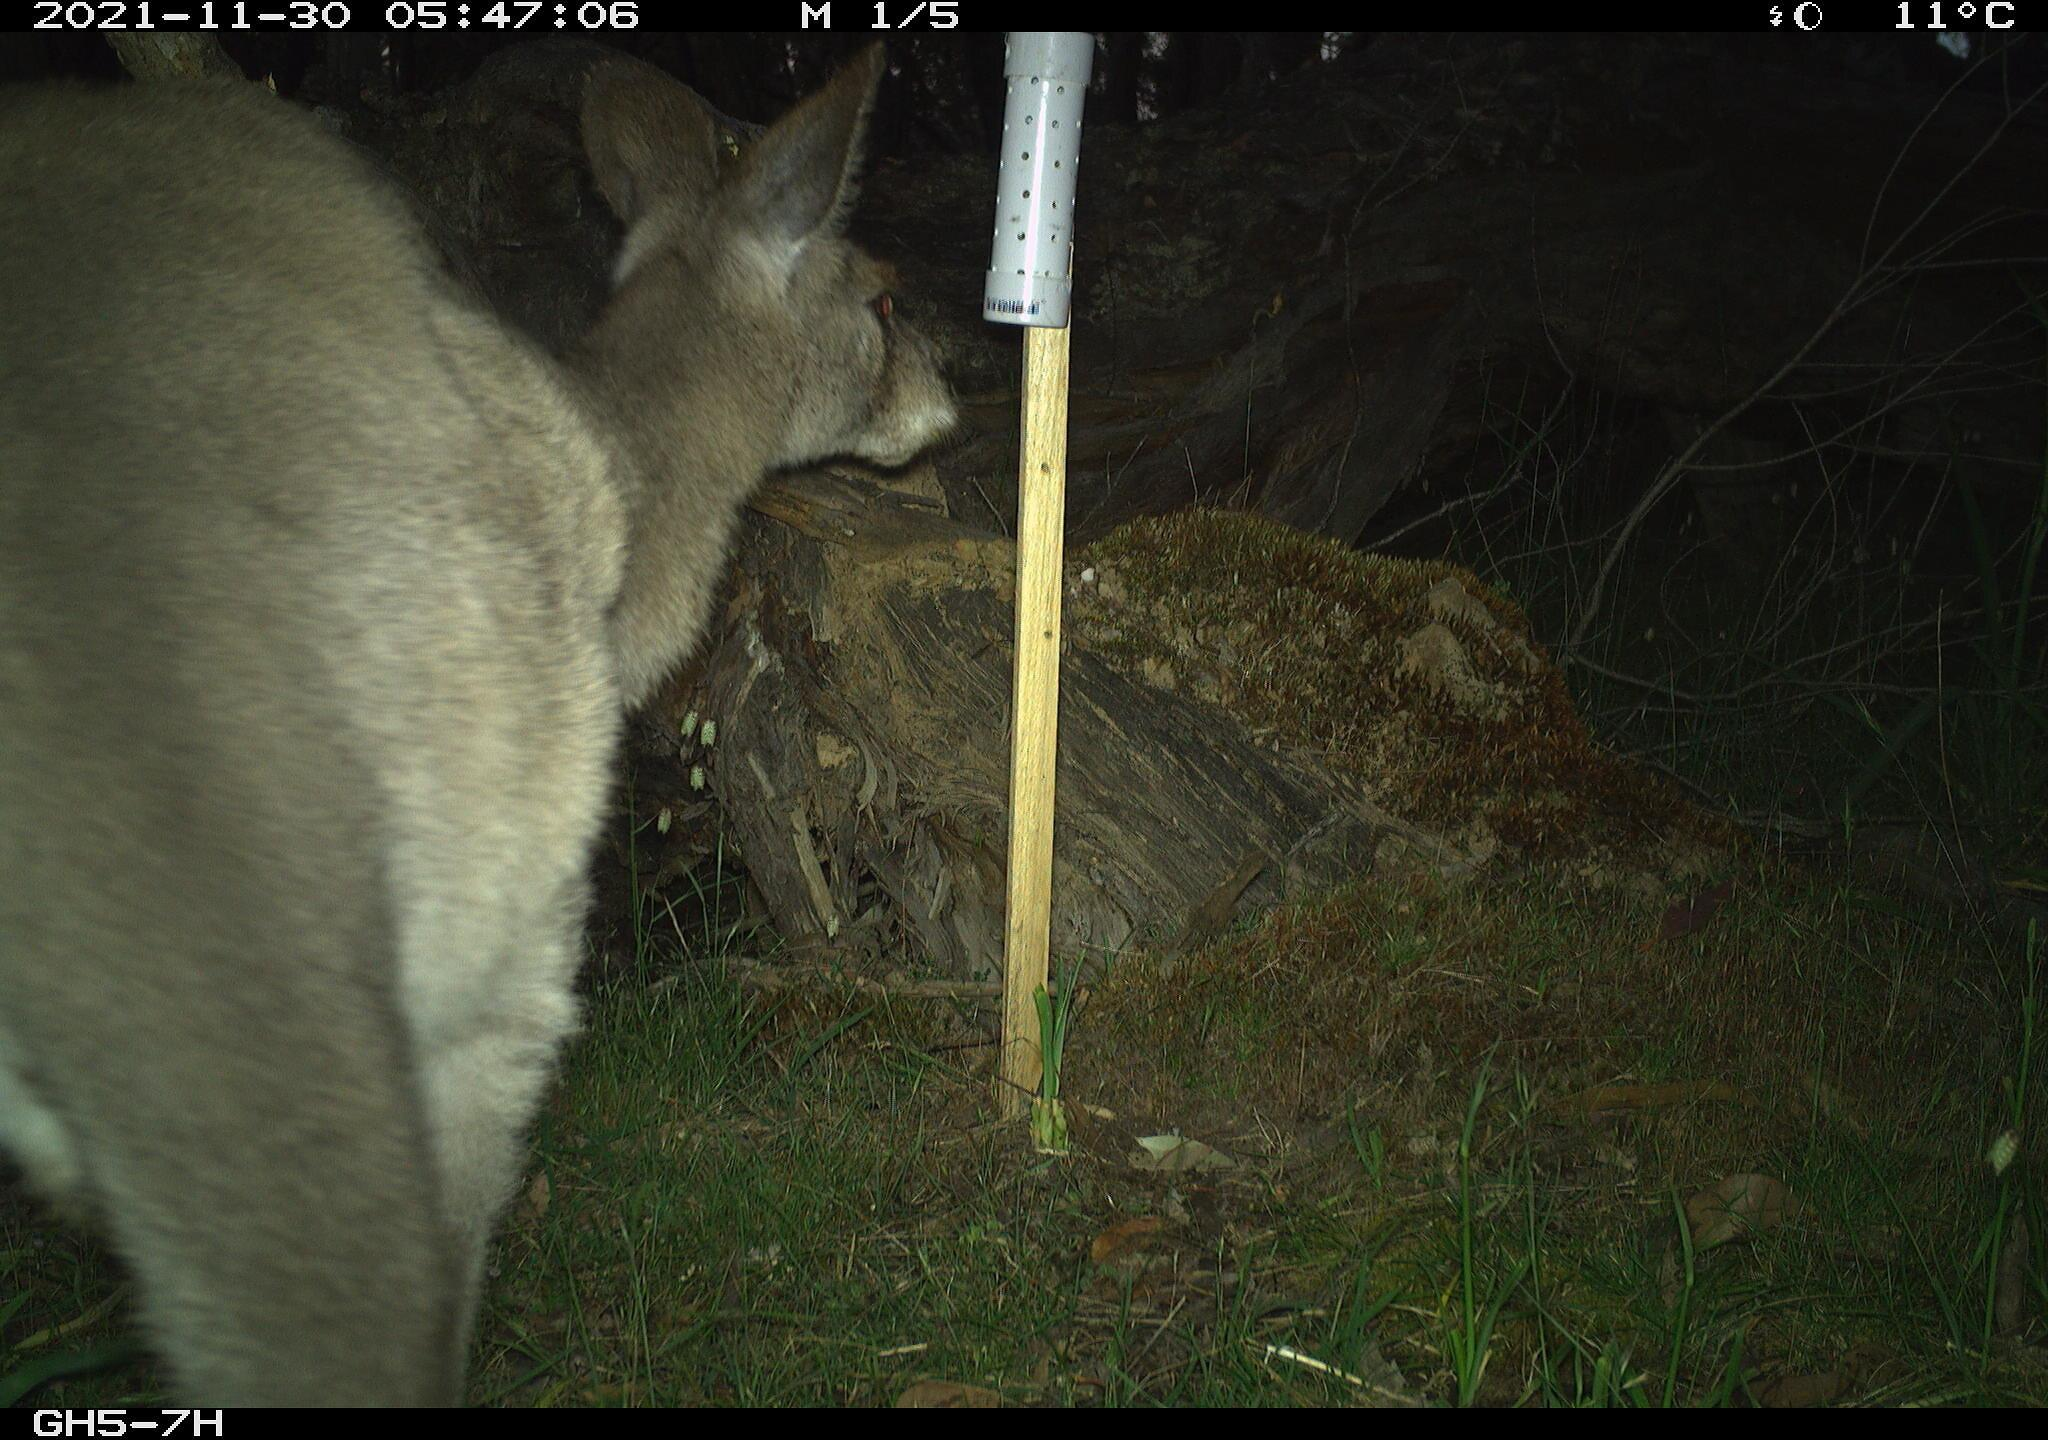Eastern grey kangaroo: (0, 34, 962, 1407)
